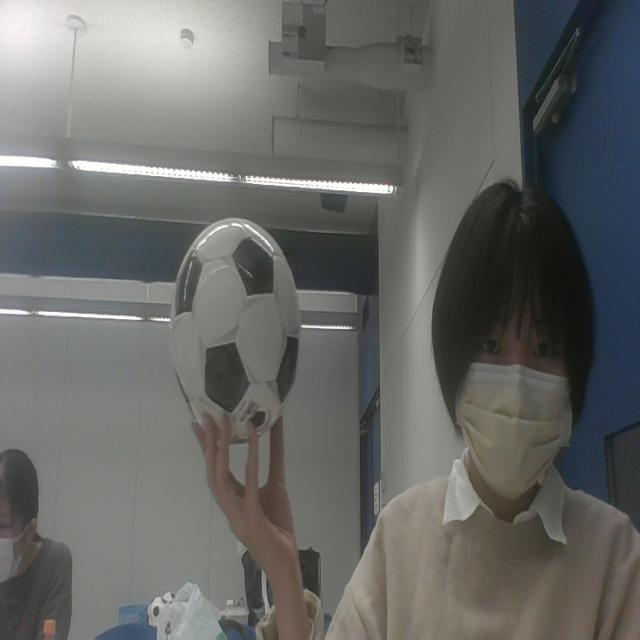ball: (171, 218, 299, 420)
